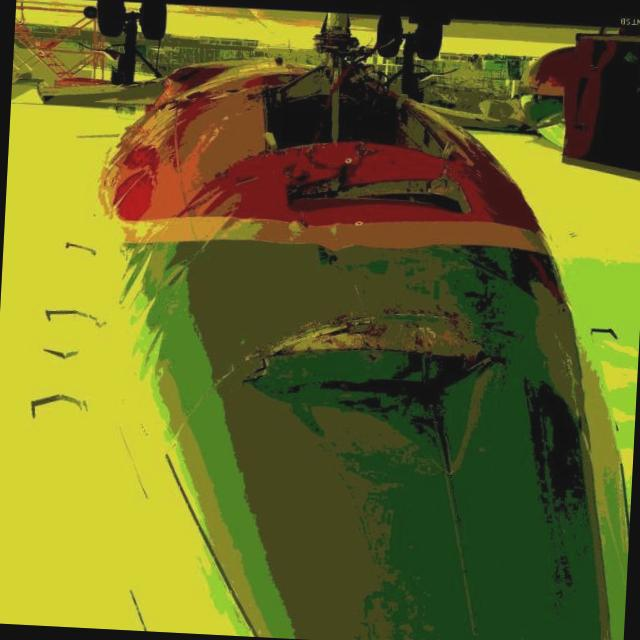dent: (246, 348, 486, 478)
